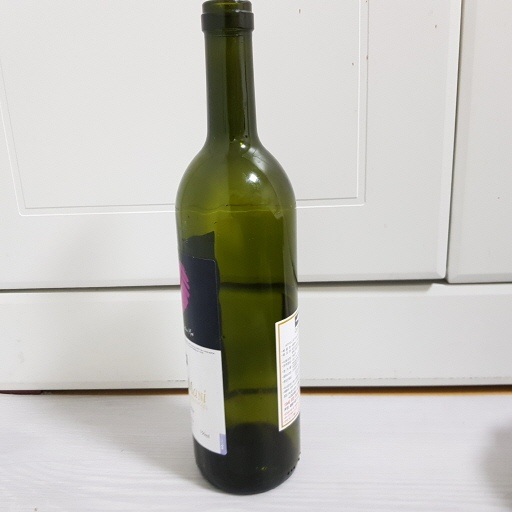Glass_2: (170, 1, 305, 498)
